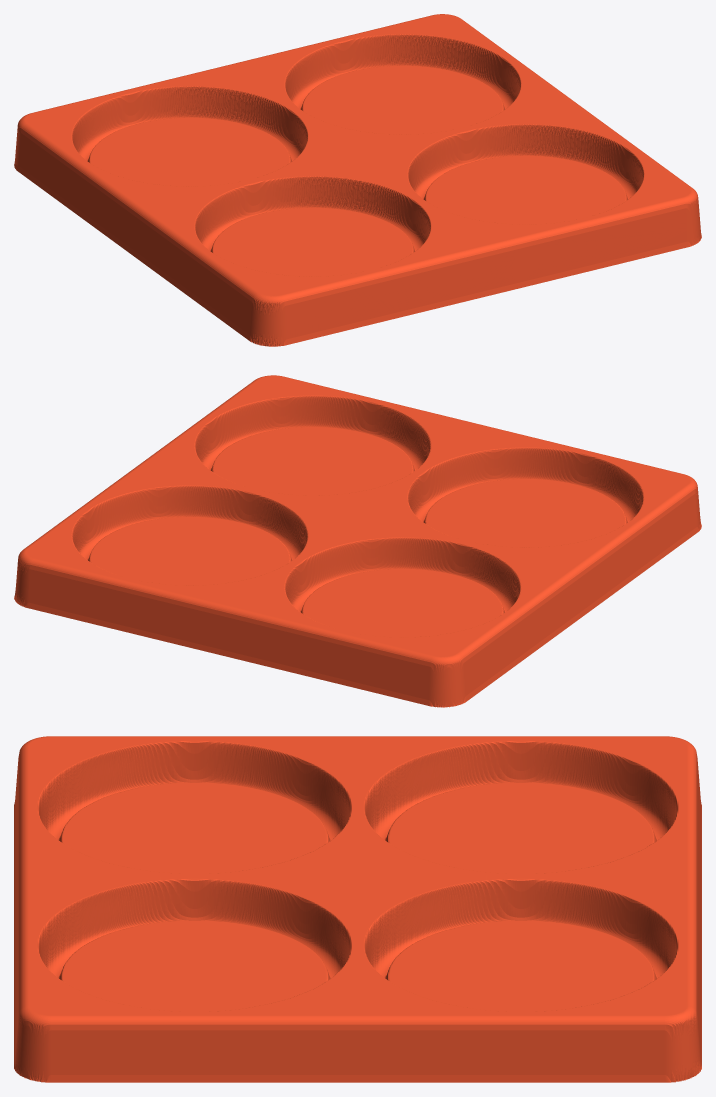
File: mold.glb
3 renders of one model, top to bottom at view 1: azimuth 30°, elevation 25°; view 2: azimuth 150°, elevation 25°; view 3: azimuth 270°, elevation 25°, orthographic. The views are drawn at different scales.
Visible parts, largest first — view 1: geometry_0; view 2: geometry_0; view 3: geometry_0.
Part boxes in pixels (x1,y1,x2,y2): geometry_0: (14, 14, 701, 346); geometry_0: (14, 375, 701, 707); geometry_0: (14, 736, 701, 1082).
Bounding box in the file's own units: 0.1688 × 0.0165 × 0.1688.
